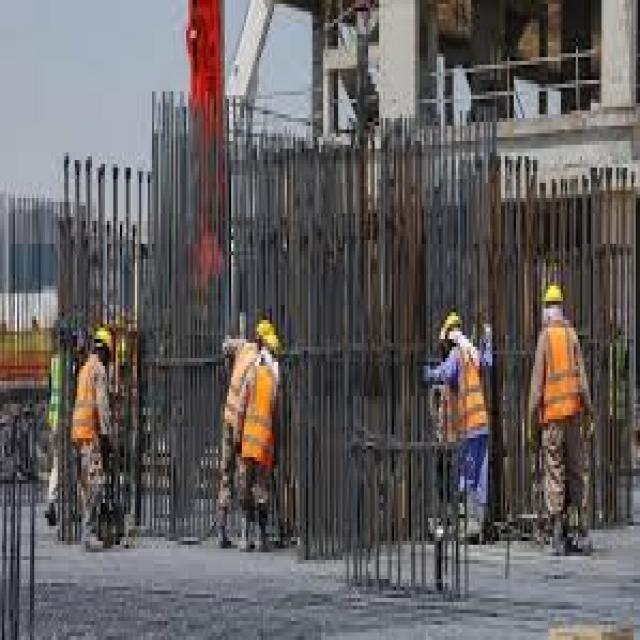Reflective-Jacket: (535, 320, 584, 434), (236, 354, 280, 480), (441, 339, 490, 446), (68, 354, 105, 450)
Safety-Helmet: (252, 312, 282, 358), (540, 278, 568, 312), (439, 308, 464, 343)
